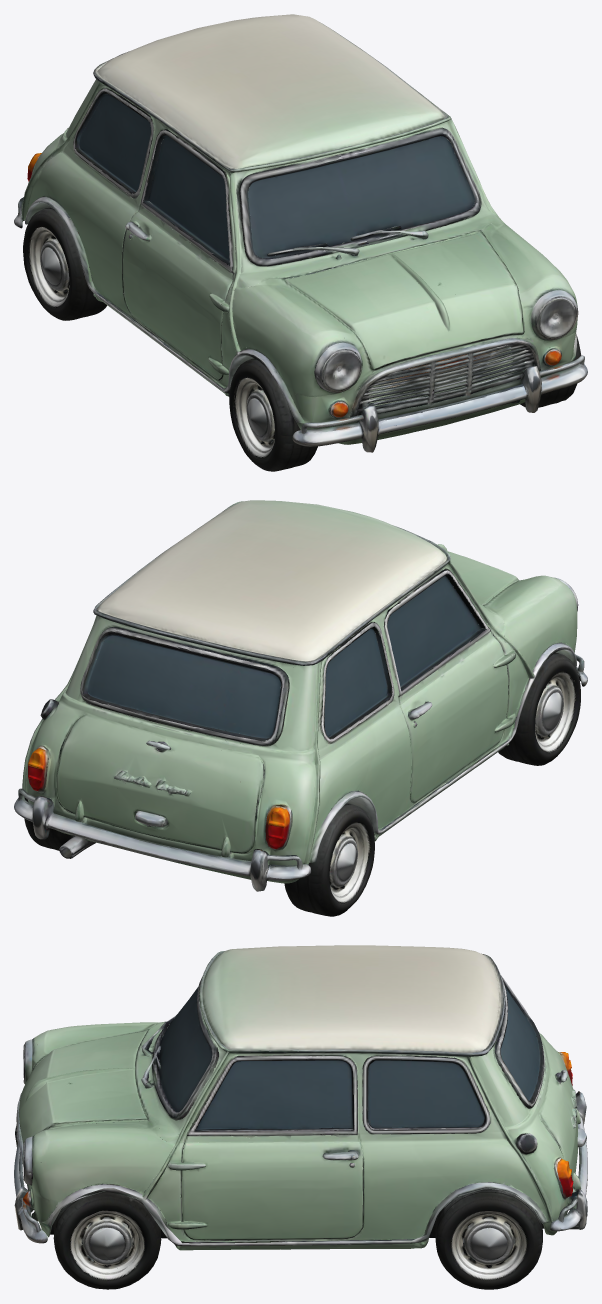
File: mini_cooper_1965.glb
3 renders of one model, top to bottom at view 1: azimuth 30°, elevation 25°; view 2: azimuth 150°, elevation 25°; view 3: azimuth 270°, elevation 25°, orthographic. The views are drawn at different scales.
Visible parts, largest first — view 1: tripo_part_0, tripo_part_5, tripo_part_6, tripo_part_15, tripo_part_18, tripo_part_4, tripo_part_1, tripo_part_22, tripo_part_9, tripo_part_13, tripo_part_26, tripo_part_12 (+15 smaller); view 2: tripo_part_0, tripo_part_16, tripo_part_15, tripo_part_18, tripo_part_5, tripo_part_1, tripo_part_4, tripo_part_22, tripo_part_8, tripo_part_11, tripo_part_36, tripo_part_33 (+4 smaller); view 3: tripo_part_0, tripo_part_5, tripo_part_2, tripo_part_17, tripo_part_19, tripo_part_14, tripo_part_3, tripo_part_6, tripo_part_10, tripo_part_16, tripo_part_8, tripo_part_9 (+1 smaller).
Boxes of the visible parts, x1=… form: tripo_part_0: x1=22, y1=14, x2=504, y2=328; tripo_part_5: x1=232, y1=222, x2=577, y2=397; tripo_part_6: x1=239, y1=127, x2=481, y2=266; tripo_part_15: x1=121, y1=211, x2=236, y2=388; tripo_part_18: x1=140, y1=130, x2=236, y2=273; tripo_part_4: x1=229, y1=358, x2=317, y2=471; tripo_part_1: x1=23, y1=207, x2=107, y2=320; tripo_part_22: x1=73, y1=91, x2=150, y2=193; tripo_part_9: x1=290, y1=331, x2=576, y2=444; tripo_part_13: x1=349, y1=335, x2=540, y2=417; tripo_part_26: x1=378, y1=384, x2=526, y2=434; tripo_part_12: x1=369, y1=347, x2=520, y2=408; tripo_part_0: x1=22, y1=500, x2=525, y2=883; tripo_part_16: x1=80, y1=627, x2=289, y2=746; tripo_part_15: x1=400, y1=636, x2=529, y2=805; tripo_part_18: x1=383, y1=568, x2=490, y2=700; tripo_part_5: x1=437, y1=544, x2=577, y2=668; tripo_part_1: x1=284, y1=803, x2=374, y2=916; tripo_part_4: x1=498, y1=652, x2=580, y2=765; tripo_part_22: x1=323, y1=626, x2=390, y2=740; tripo_part_8: x1=14, y1=788, x2=311, y2=881; tripo_part_11: x1=309, y1=790, x2=390, y2=862; tripo_part_36: x1=32, y1=796, x2=54, y2=839; tripo_part_33: x1=250, y1=849, x2=270, y2=891; tripo_part_0: x1=135, y1=945, x2=586, y2=1250; tripo_part_5: x1=18, y1=1022, x2=174, y2=1202; tripo_part_2: x1=148, y1=1141, x2=364, y2=1241; tripo_part_17: x1=186, y1=1055, x2=359, y2=1139; tripo_part_19: x1=362, y1=1056, x2=492, y2=1134; tripo_part_14: x1=435, y1=1188, x2=542, y2=1289; tripo_part_3: x1=53, y1=1183, x2=161, y2=1289; tripo_part_6: x1=152, y1=976, x2=218, y2=1119; tripo_part_10: x1=41, y1=1170, x2=547, y2=1246; tripo_part_16: x1=494, y1=975, x2=544, y2=1108; tripo_part_8: x1=550, y1=1111, x2=587, y2=1231; tripo_part_9: x1=31, y1=1185, x2=58, y2=1237.
Size of the model in its own units: 0.5754 by 0.4726 by 0.9996.
Materials: 1 (1 with a texture image).
